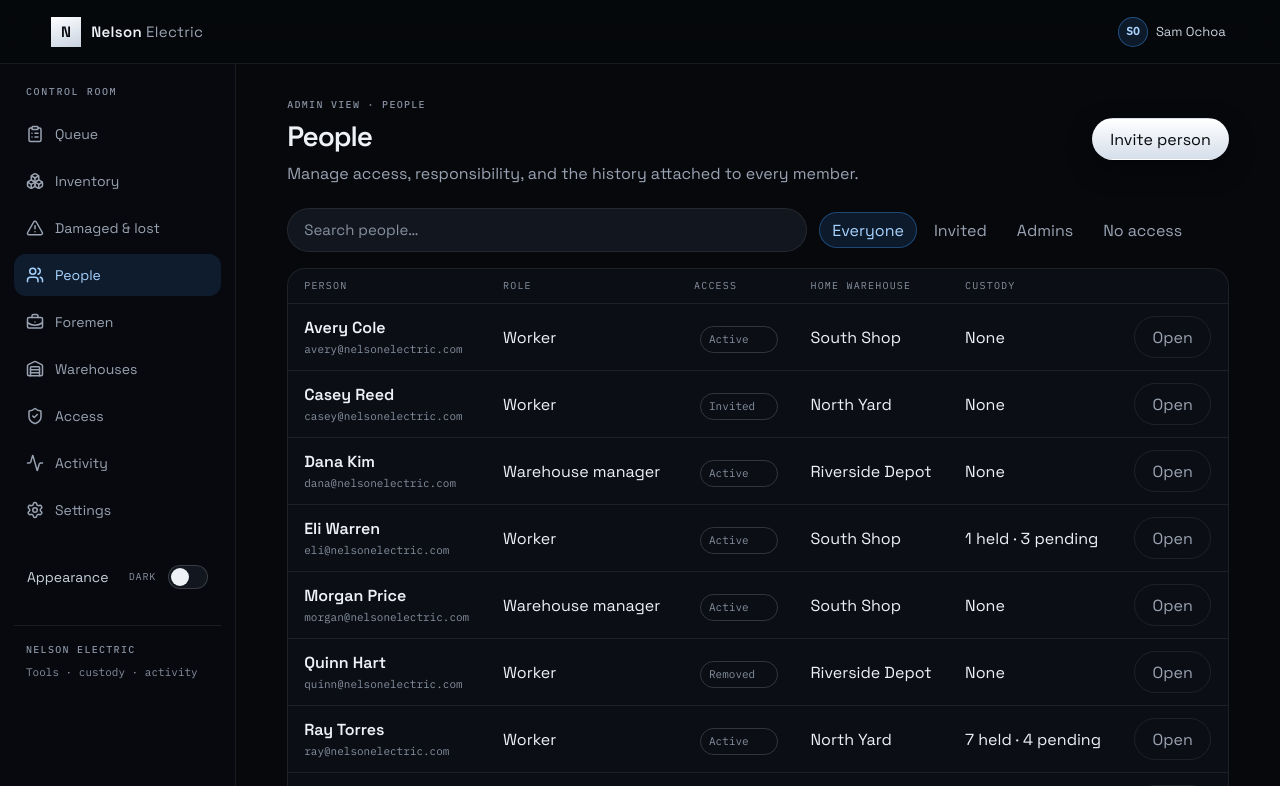
Test case: admin route surfaces › opens admin forms without crossing the adapter boundary
Click the button "Invite person" at point(1161, 139), box [1092,118,1229,160]
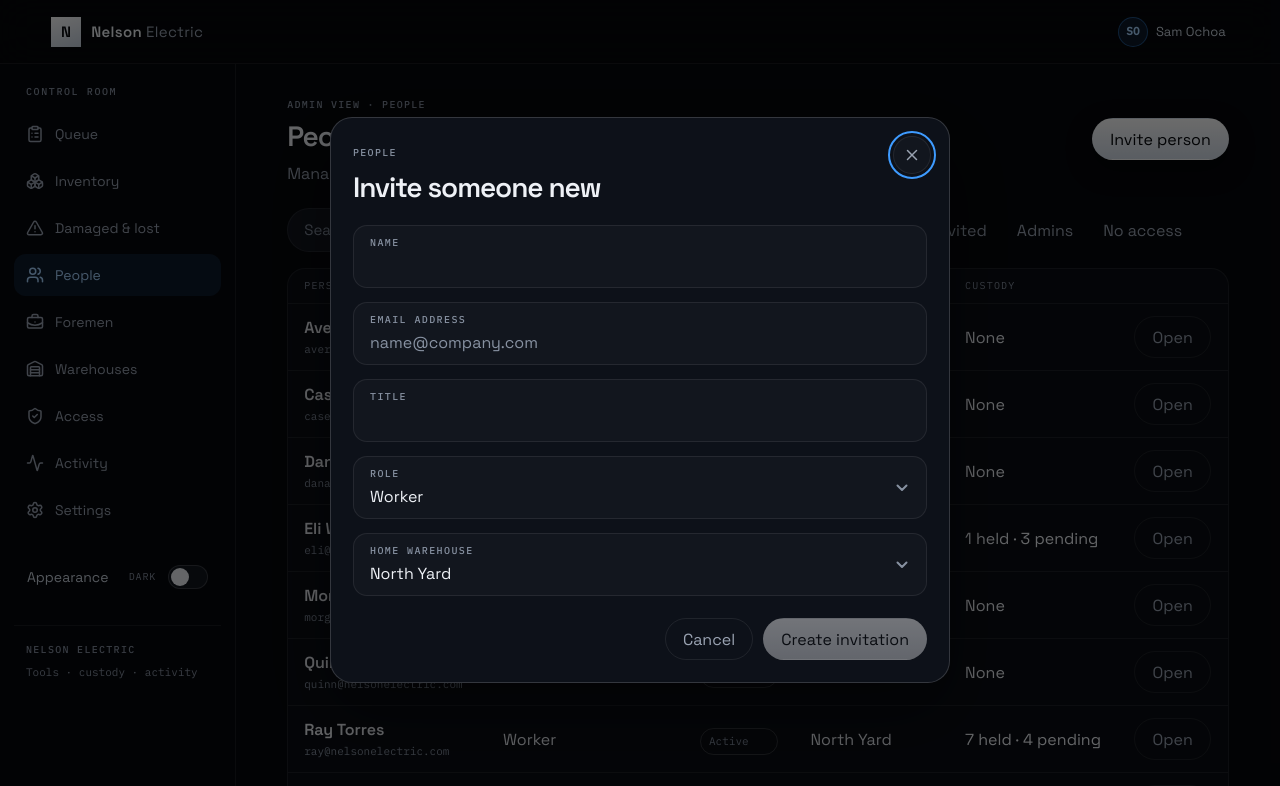
Expected: the dialog named "Invite a person" is shown, [330,116,950,683]
Click the button "Cancel" at point(709, 640), box [665,618,753,660]
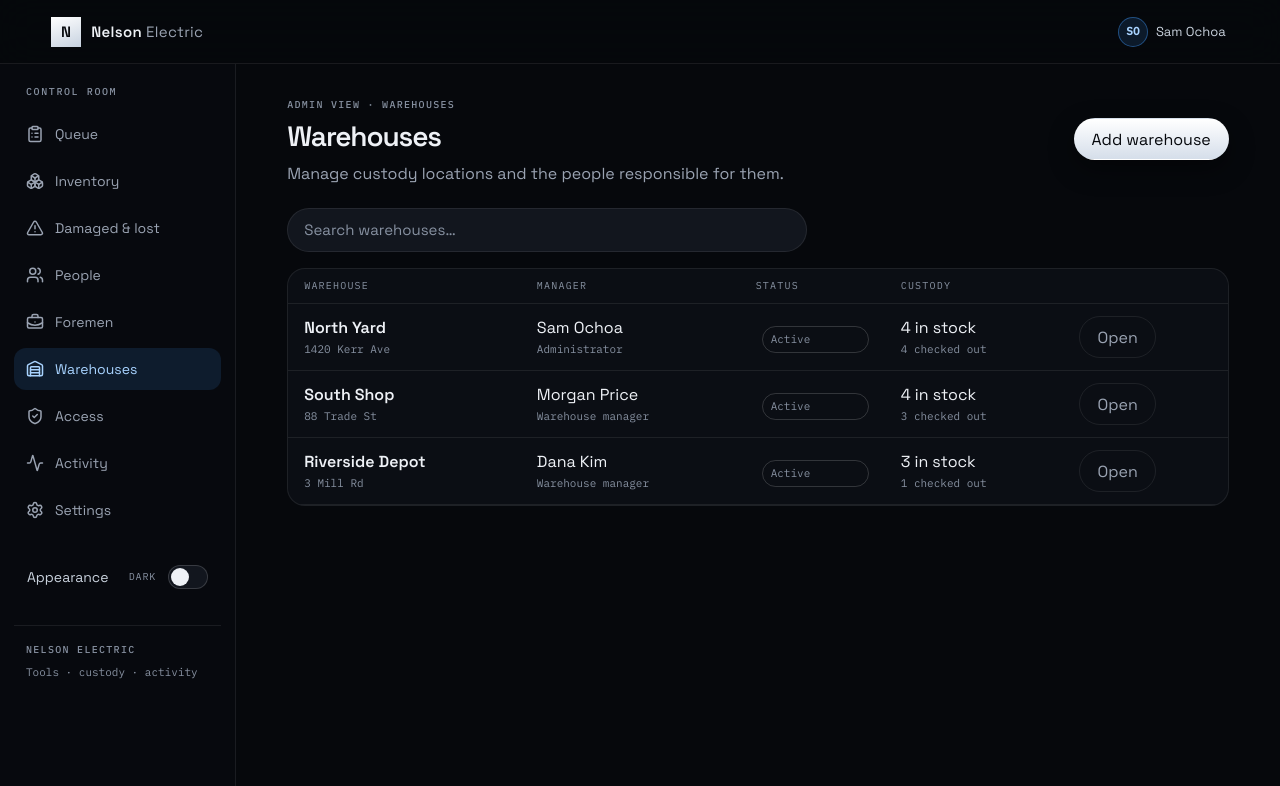
Expected: the heading "Warehouses" is shown, [287,118,441,154]
Click the button "Add warehouse" at point(1151, 139), box [1074,118,1229,160]
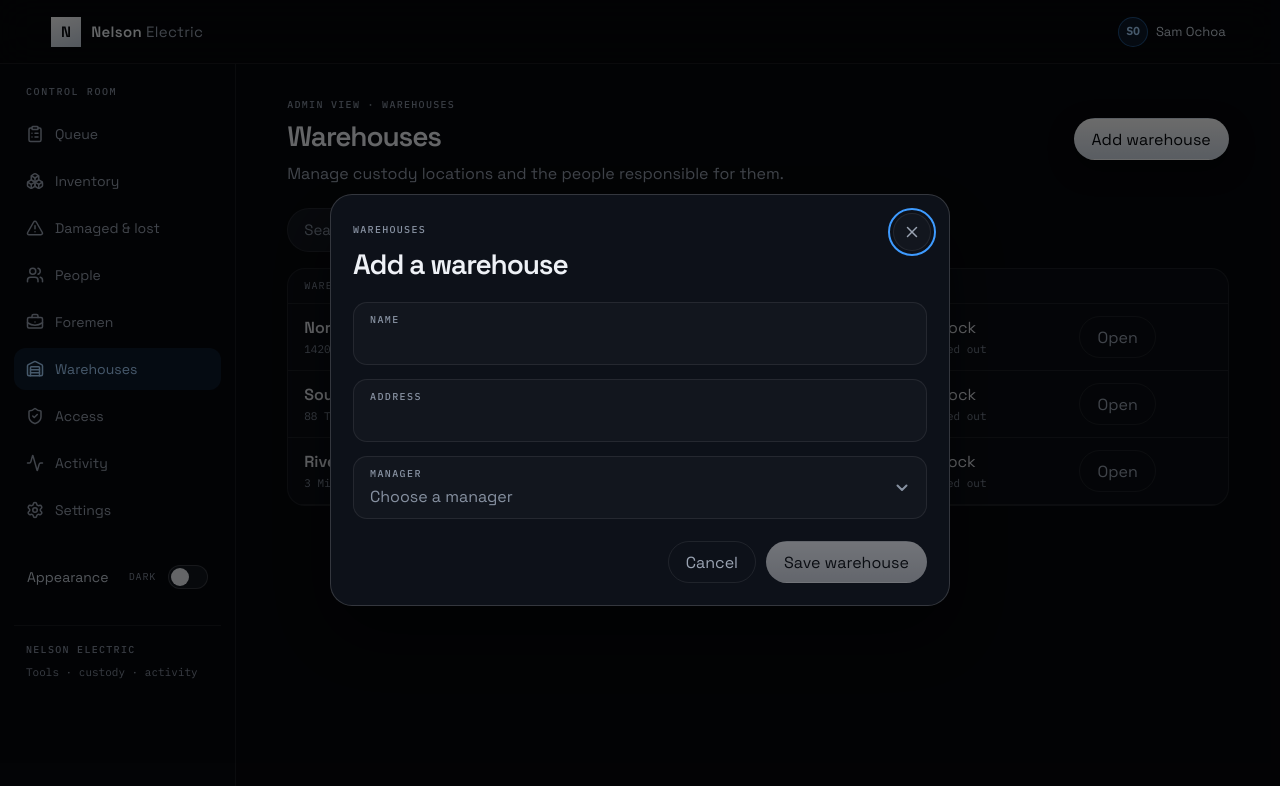
Expected: the dialog named "Create warehouse" is shown, [330,194,950,606]
